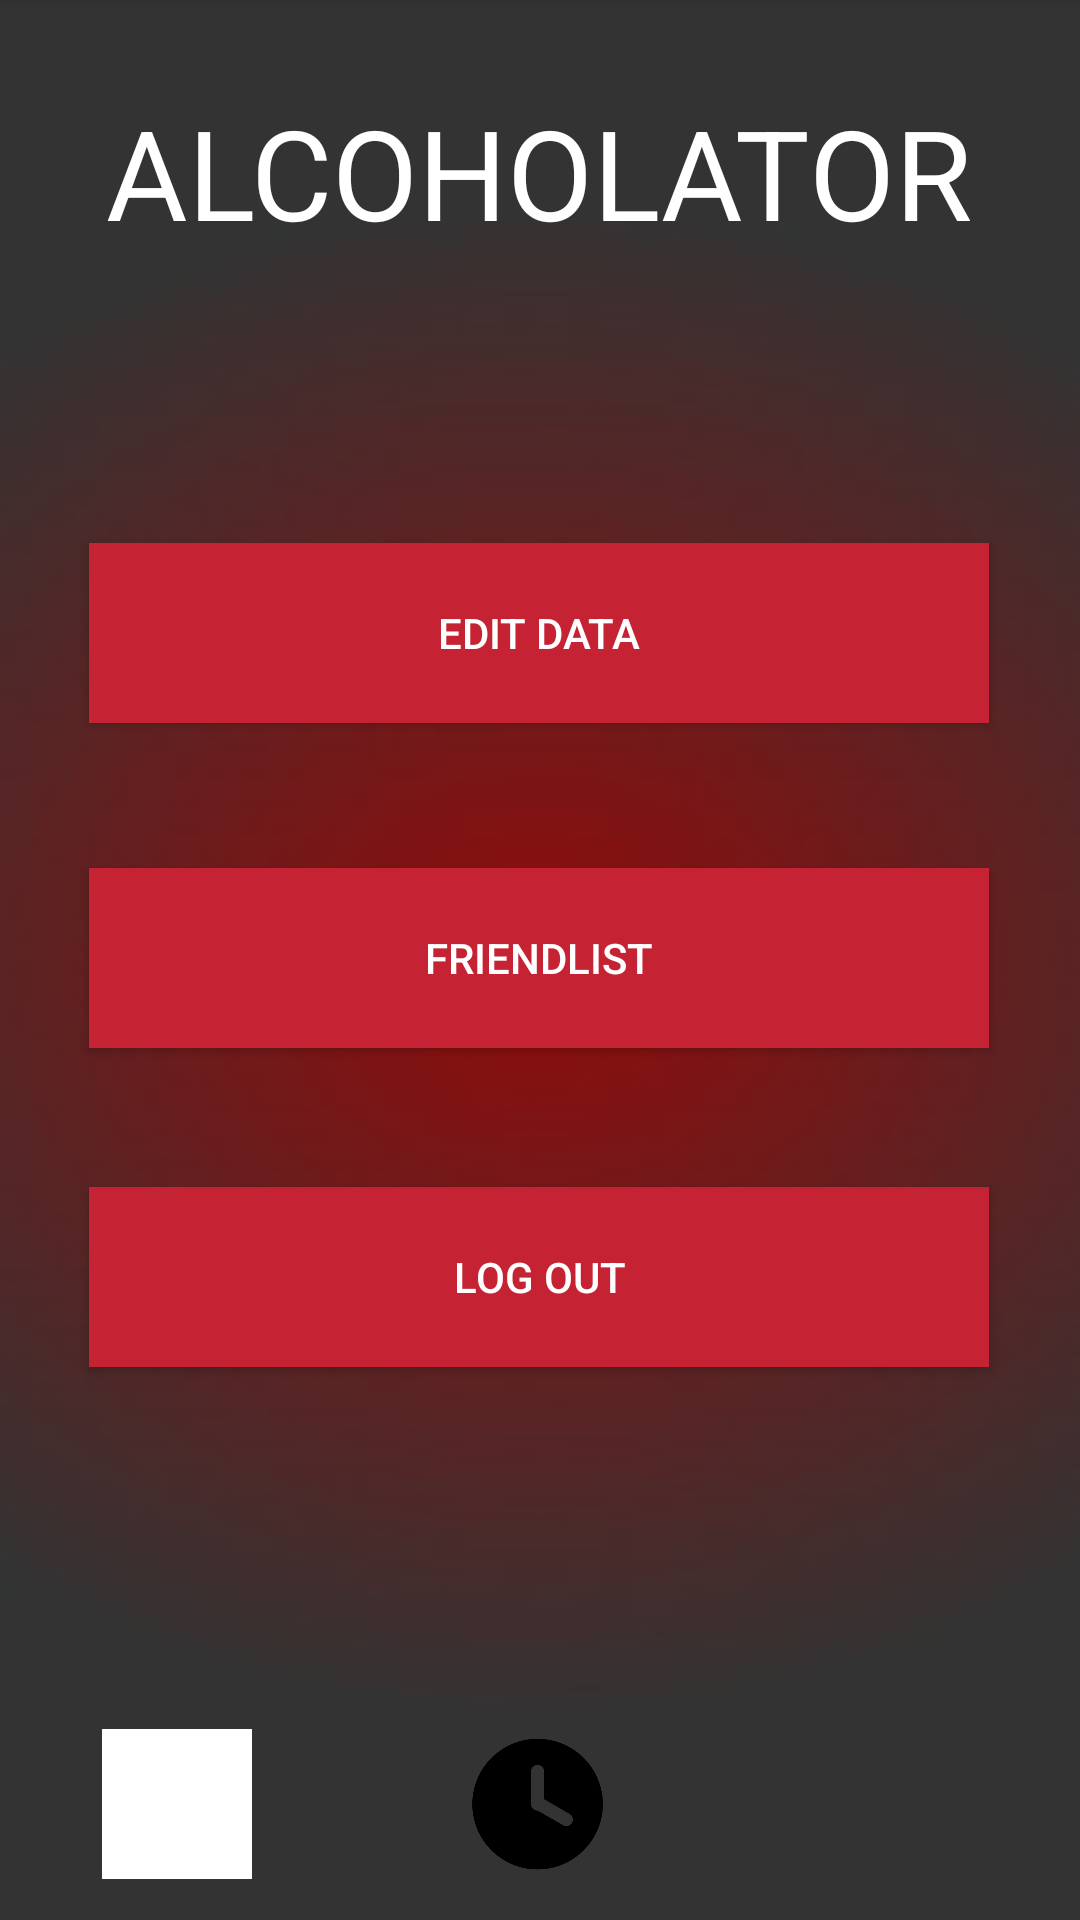

Icon click points for this 1080px×1920px phone screenshot, format (x,y):
history: (537,1804)
